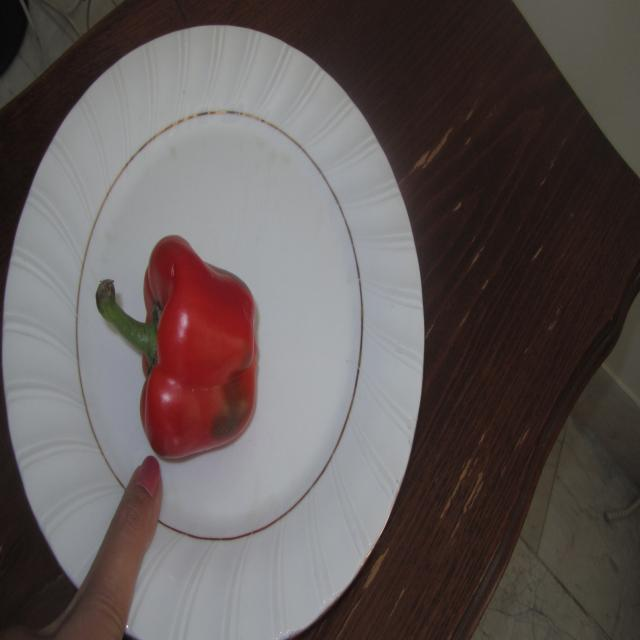Pepper: (95, 233, 258, 461)
